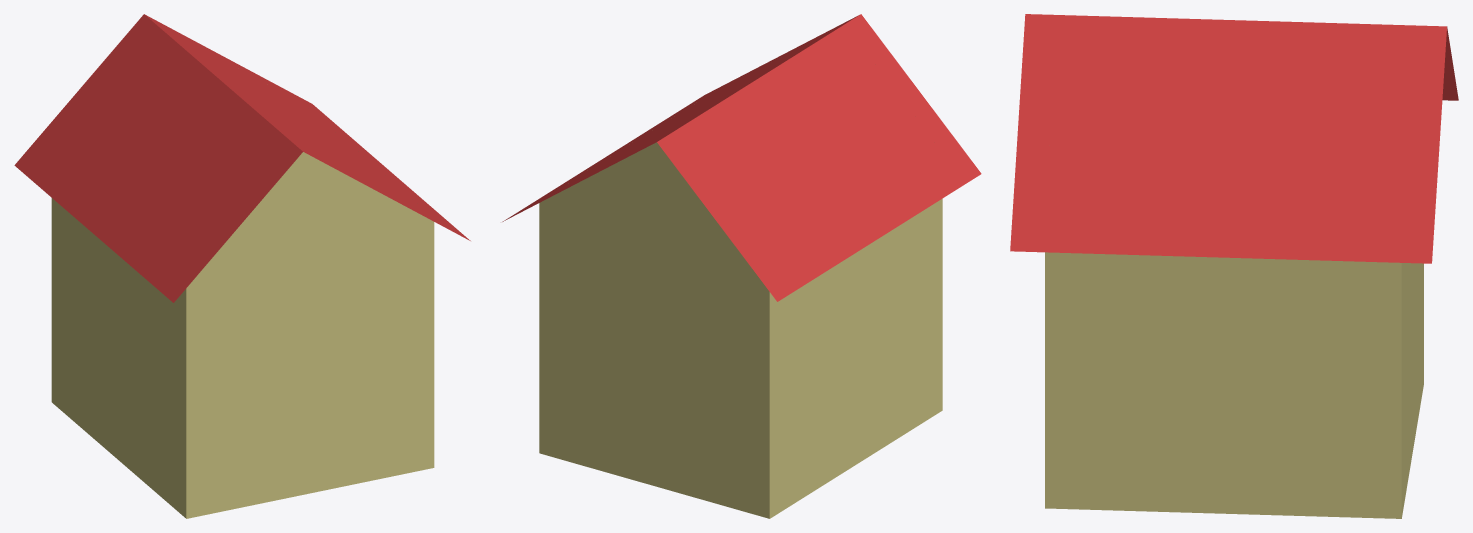
3 renders of one model, left to right at view 1: azimuth 30°, elevation 25°; view 2: azimuth 150°, elevation 25°; view 3: azimuth 270°, elevation 25°, orthographic. The views are drawn at different scales.
Size of the model in its own units: 6.37 by 6.89 by 7.04.
